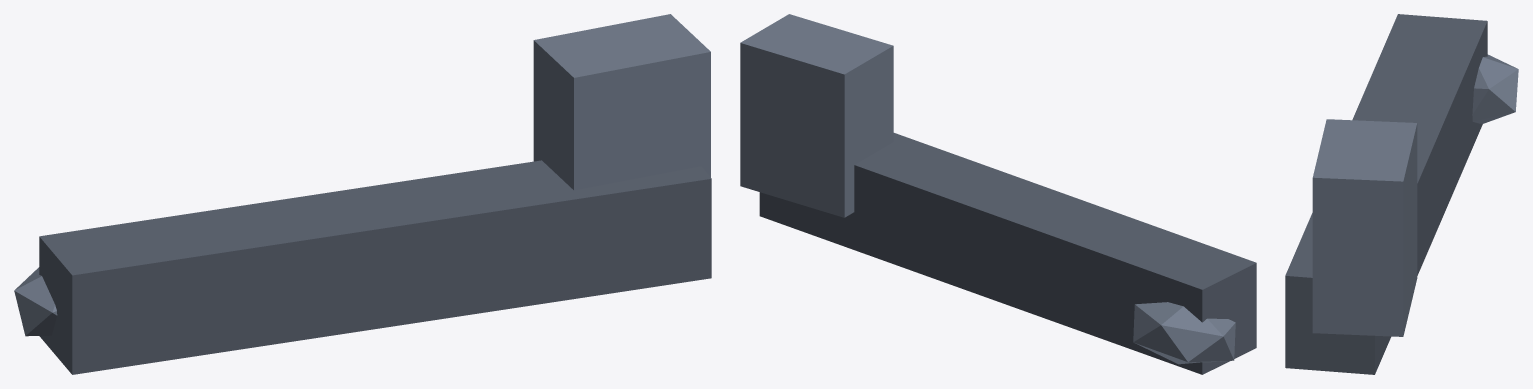
File: EXTC_FallenColumn_00.glb
3 views of the same model, side by side, from view 1: azimuth 30°, elevation 25°; view 2: azimuth 150°, elevation 25°; view 3: azimuth 270°, elevation 25° (orthographic). The views are drawn at different scales.
Parts seen in each view (by area): view 1: EXTC_FallenColumn_00; view 2: EXTC_FallenColumn_00; view 3: EXTC_FallenColumn_00.
Boxes of the visible parts, left/top/right/bottom form: EXTC_FallenColumn_00: left=14, top=14, right=711, bottom=374; EXTC_FallenColumn_00: left=740, top=14, right=1256, bottom=374; EXTC_FallenColumn_00: left=1285, top=14, right=1518, bottom=374.
Bounding box in the file's own units: 2.44 × 0.81 × 0.8714.
